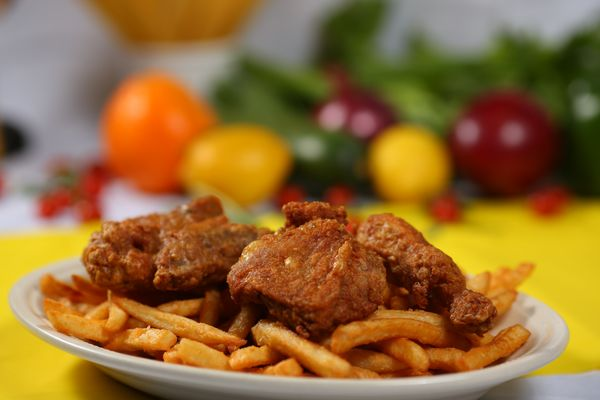steak: (448, 87, 565, 196)
taco: (96, 67, 221, 192), (365, 120, 455, 203)
